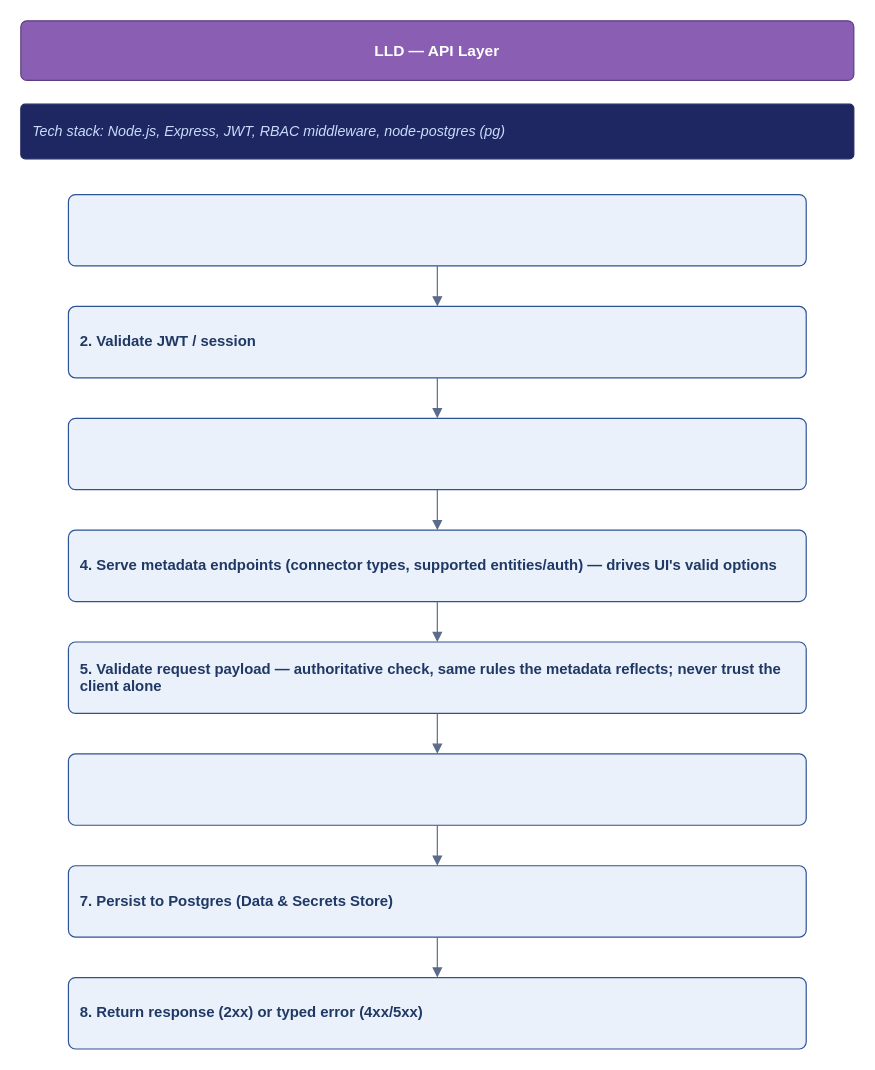
Some shapes in this 875 by 1070 pixel diagram are drawn without their labels. The centre of each missing label's shape, as x and y in pixels:
1. Receive HTTPS request: the point at 436,229
3. Authorize via RBAC policy check: the point at 436,453
6. Route to handler (connector / credentials / mapping / sync-config): the point at 436,789
